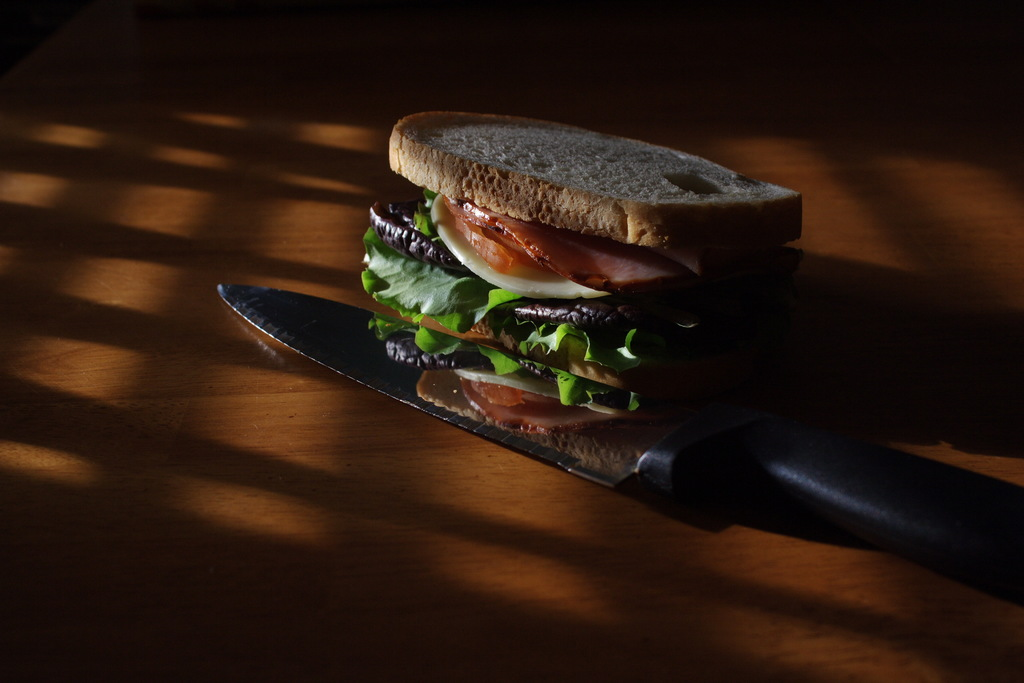Hamburger: (355, 110, 804, 386)
